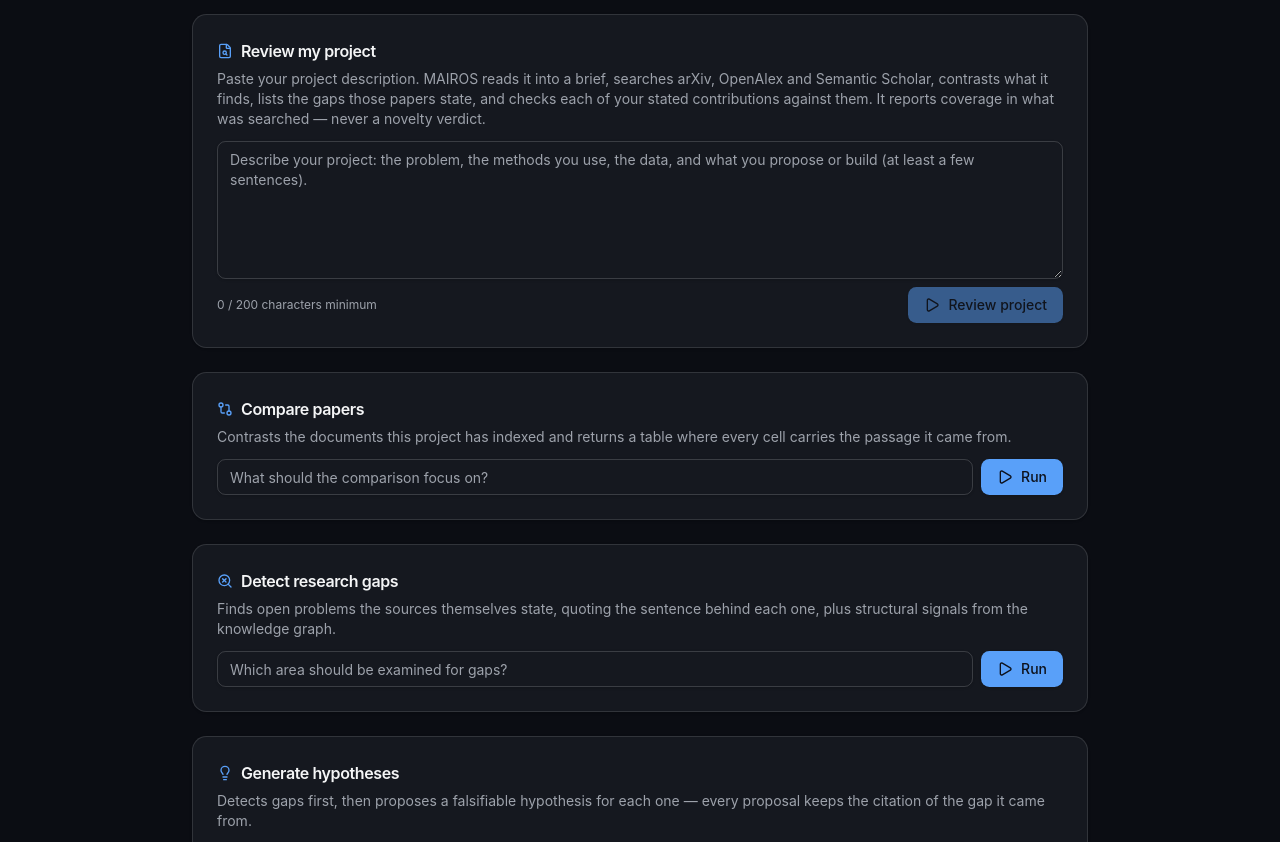
WorkflowPanel › renders a failed run's error rather than a blank panel
This screenshot has width=1280, height=842.
What coordinates should you click on to do the following:
click the 1st button "Run"
I would click on:
 (1022, 477)
Its box is [981,459,1063,495].
(page scrolled)
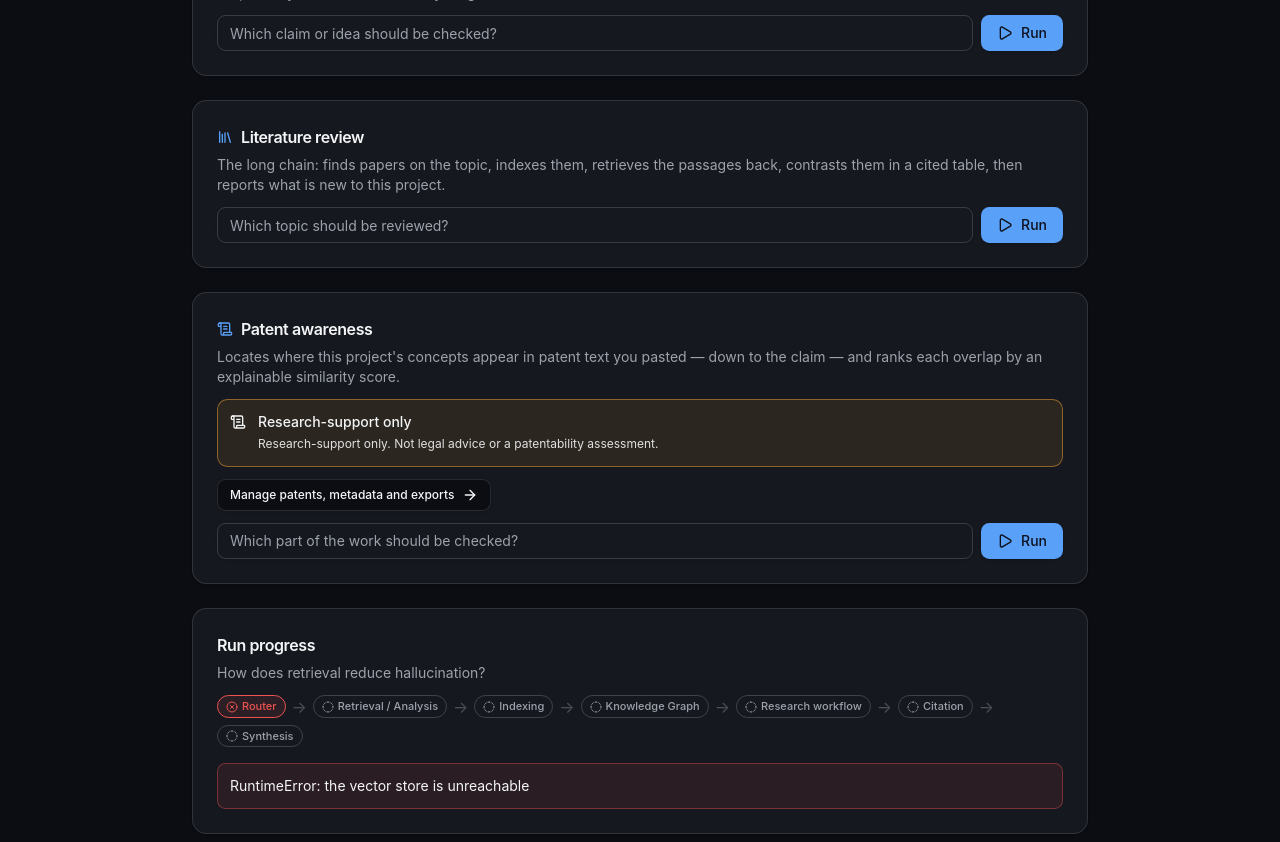
Check: the text "RuntimeError: the vector store is unreachable" is shown, box [217,763,1063,809]
Check: the text "Run progress" is shown, box [217,634,315,654]
